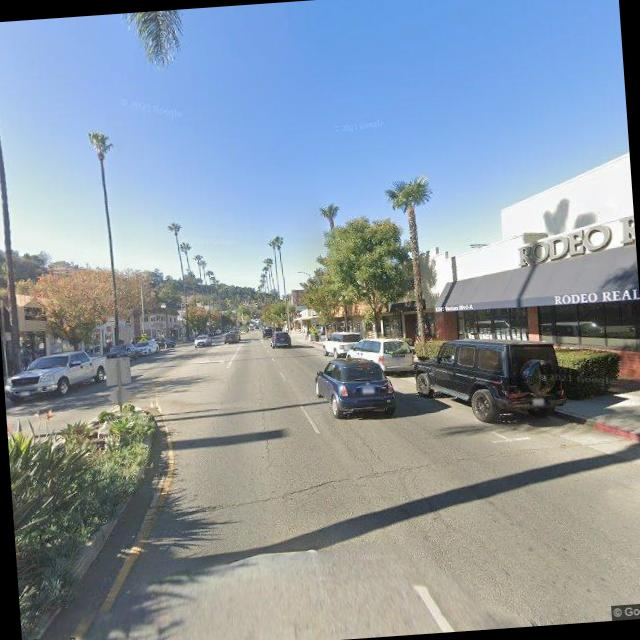crack: (172, 458, 444, 516), (249, 380, 278, 470)
